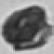correct: (0, 5, 54, 49)
